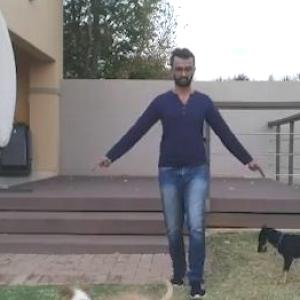land: (103, 61, 247, 290)
